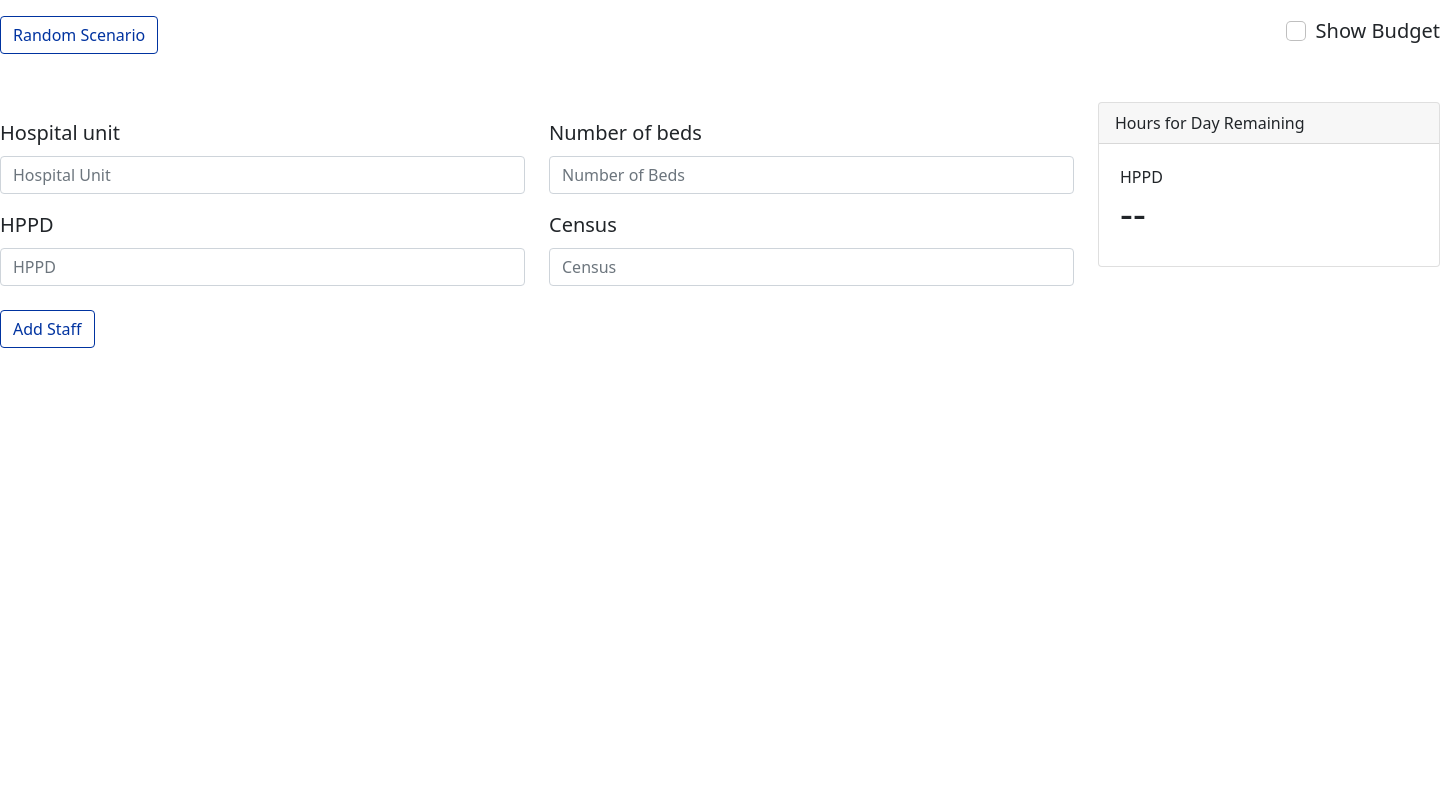
it: <StaffAdd /> › Test cancel add staff button
The image size is (1440, 810).
button click to get modal up
Click the button with test id "addstaff-id".
click(47, 329)  # box x1=0 y1=310 x2=95 y2=348
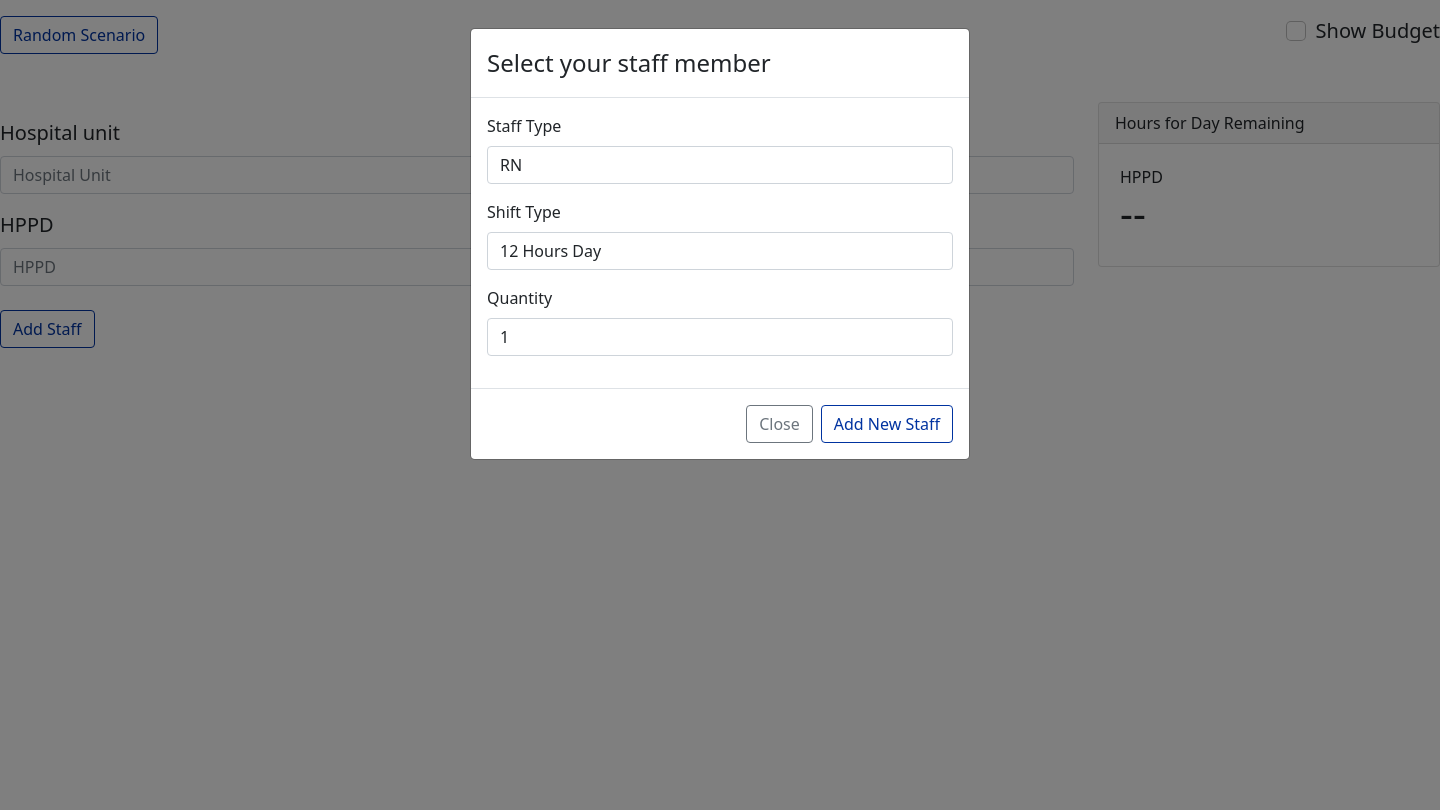
Check: the element with test id "addStaffModal-id" is shown, box x1=470 y1=28 x2=970 y2=460
Check: the button with test id "cancelStaffAdd-id" is shown
cancel staff add
Click the button with test id "cancelStaffAdd-id".
click(780, 424)  # box x1=746 y1=405 x2=813 y2=443
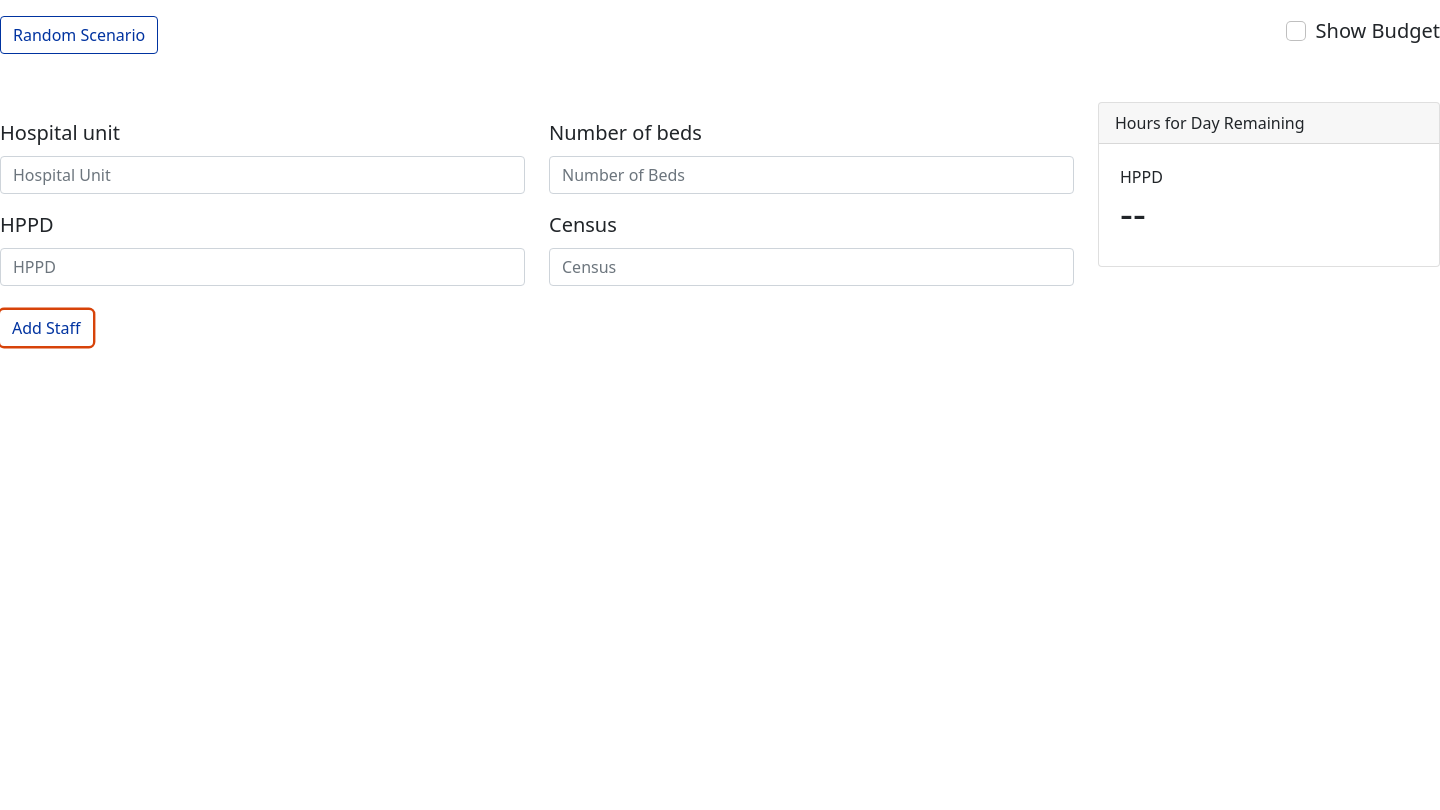
Check: the element with test id "addStaffModal-id" is gone
Check: the text "Staff Type" is gone
